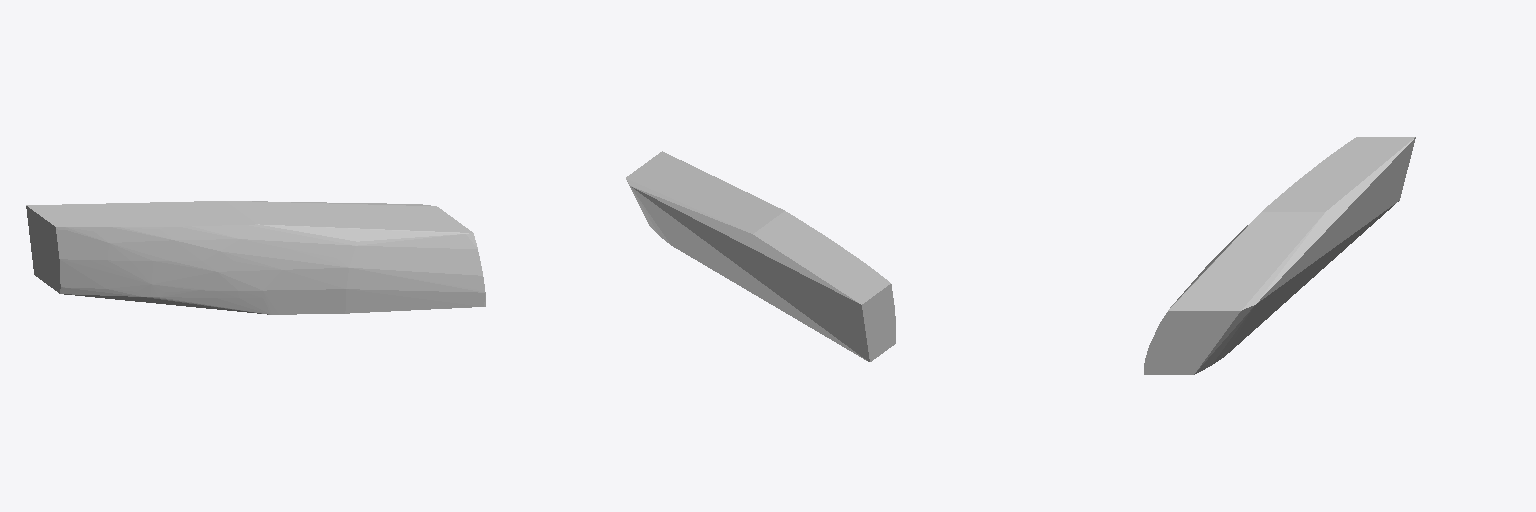
Rendered from phantom-elastrat_collision_122.obj.
3 renders of one model, left to right at view 1: azimuth 30°, elevation 25°; view 2: azimuth 150°, elevation 25°; view 3: azimuth 270°, elevation 25°, orthographic.
Bounding box in the file's own units: 0.0144 × 0.0034 × 0.0105.